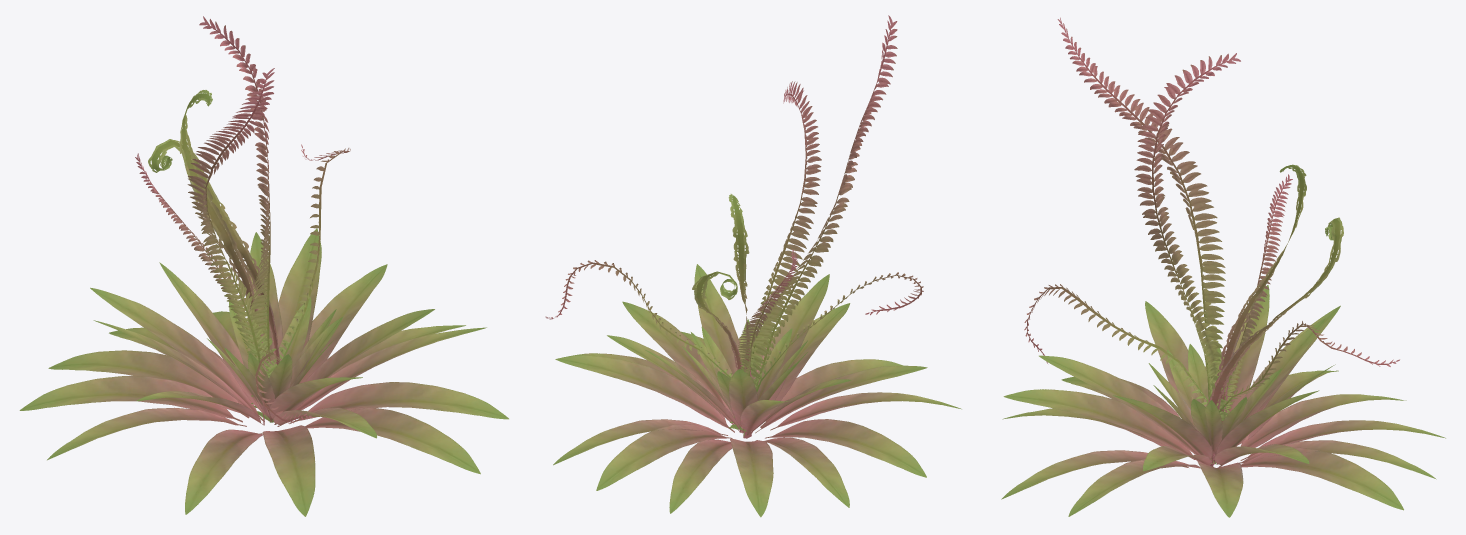
3 renders of one model, left to right at view 1: azimuth 30°, elevation 25°; view 2: azimuth 150°, elevation 25°; view 3: azimuth 270°, elevation 25°, orthographic. The views are drawn at different scales.
Visible parts, largest first — view 1: SM_DR_SwampFern_02_LOD0; view 2: SM_DR_SwampFern_02_LOD0; view 3: SM_DR_SwampFern_02_LOD0.
Part boxes in pixels (bbox=[...]): SM_DR_SwampFern_02_LOD0: bbox=[19, 16, 508, 516]; SM_DR_SwampFern_02_LOD0: bbox=[545, 15, 961, 517]; SM_DR_SwampFern_02_LOD0: bbox=[1001, 17, 1445, 517].
Bounding box in the file's own units: 1.34 × 1.31 × 1.31.
Materials: 1 (1 with a texture image).
